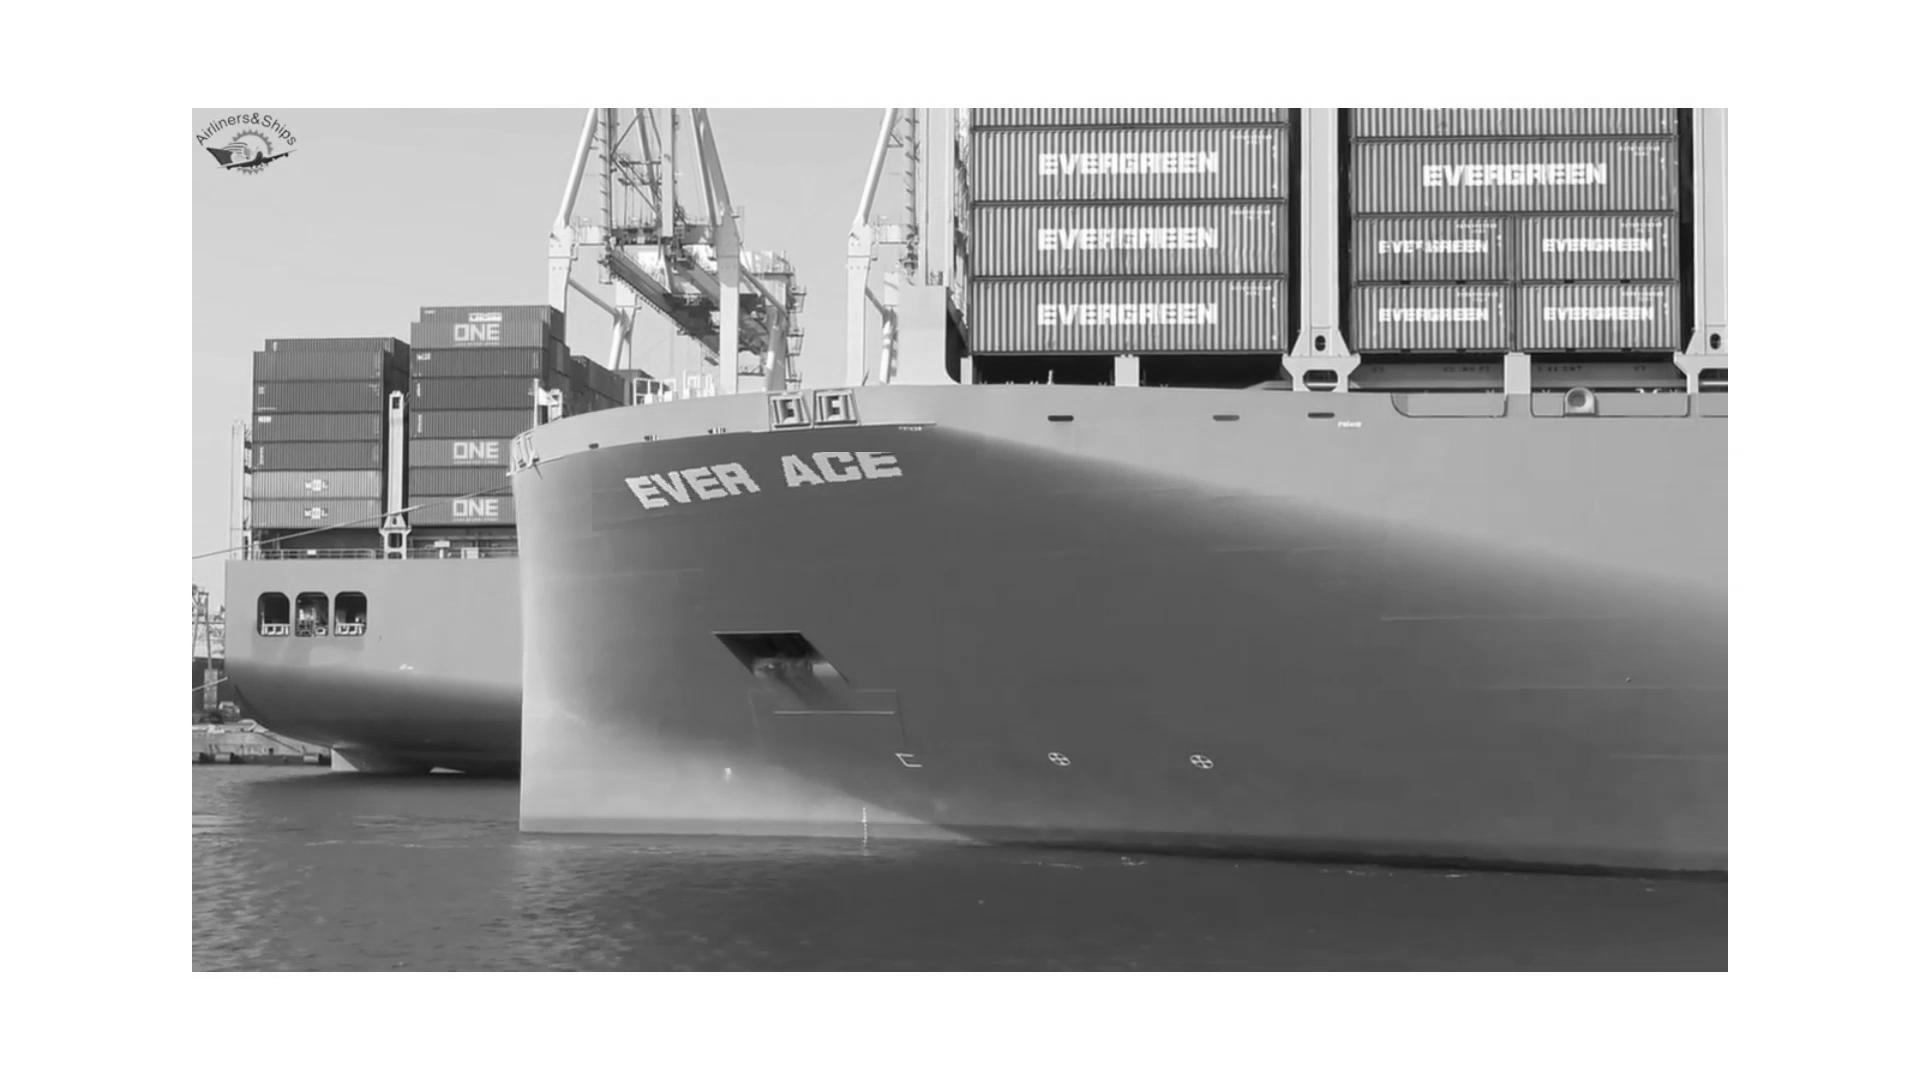OCR: (592, 452, 935, 533)
